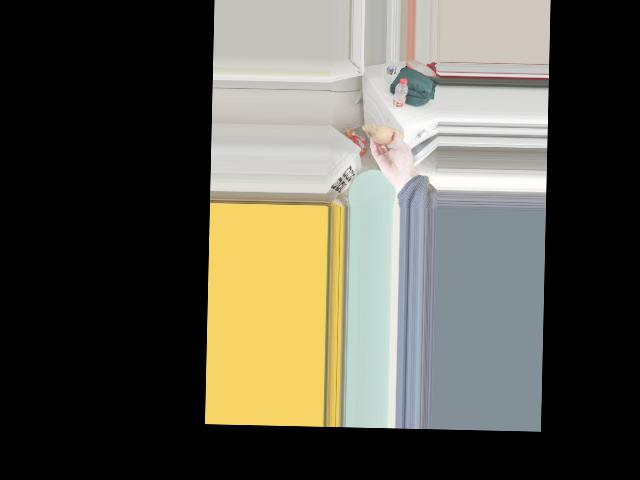sweet_potato: (370, 124, 401, 143)
